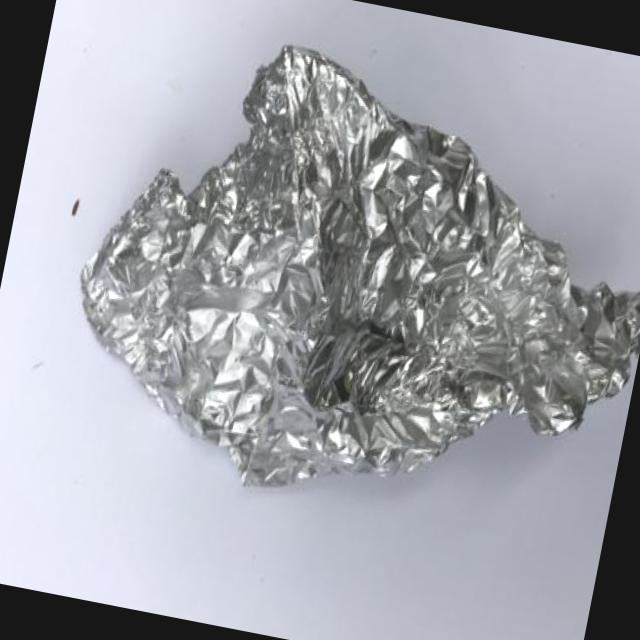kim_loai: (78, 42, 640, 489)
